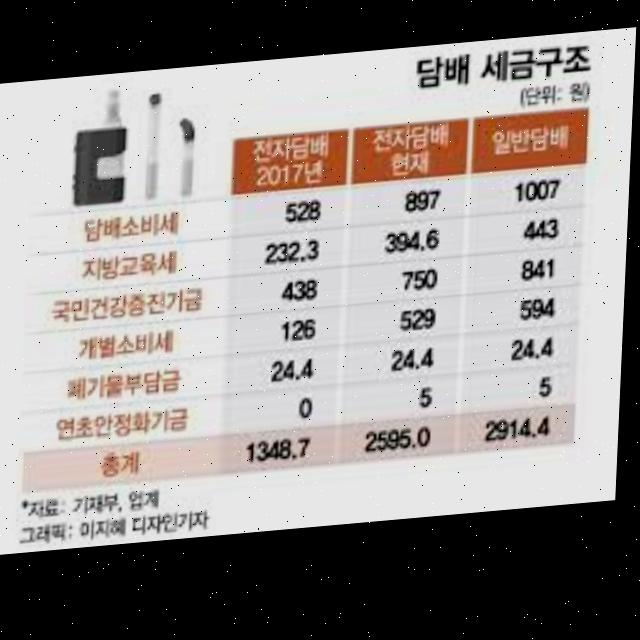cigarette: (147, 94, 164, 200), (180, 120, 196, 198)
vape: (71, 89, 130, 211)
